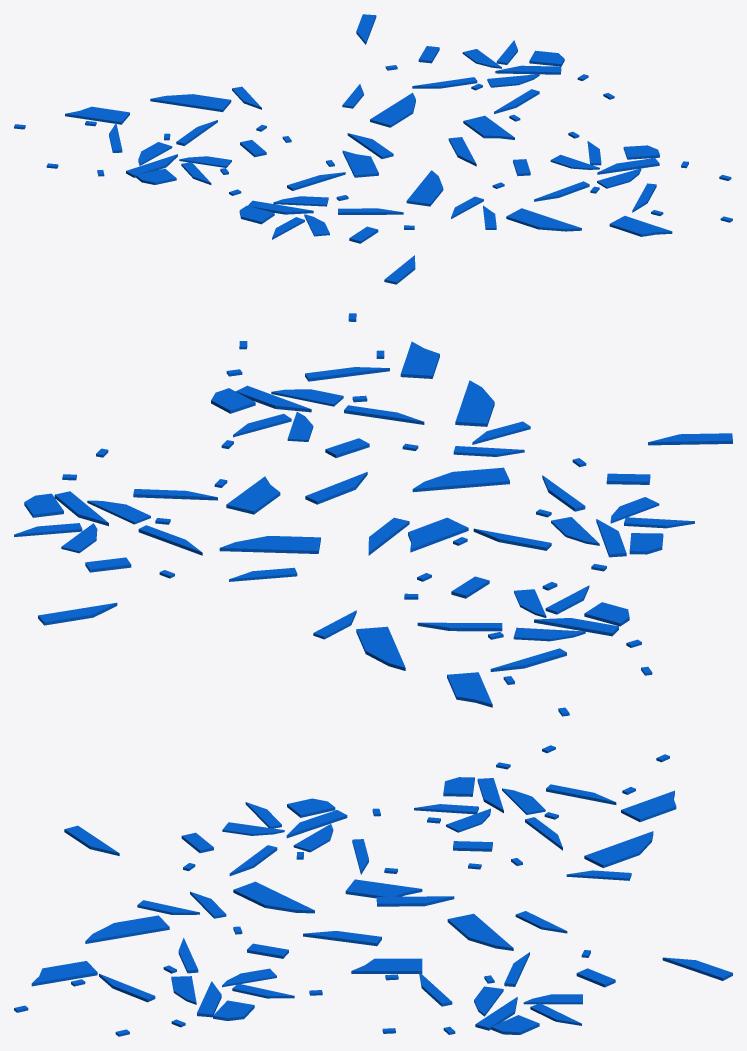
File: Wood_Debris_02.fbx
The picture shows the model from 3 angles, top to bottom: view 1: azimuth 30°, elevation 25°; view 2: azimuth 150°, elevation 25°; view 3: azimuth 270°, elevation 25°; orthographic projection. The views are drawn at different scales.
Parts seen in each view (by area): view 1: Wood_Debris_02; view 2: Wood_Debris_02; view 3: Wood_Debris_02.
Boxes of the visible parts, x1,y1,x2,y2 form: Wood_Debris_02: (14,14,732,284); Wood_Debris_02: (14,313,732,716); Wood_Debris_02: (14,745,732,1036).
Size of the model in its own units: 239 by 3.05 by 251.
